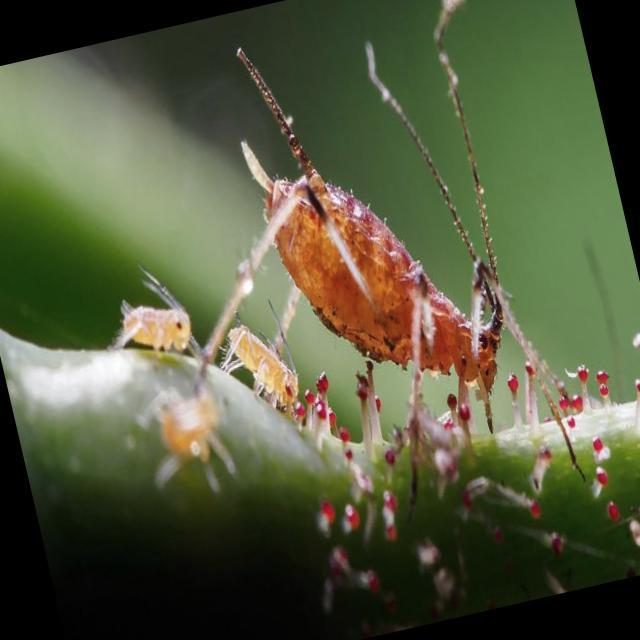aphid: (184, 72, 550, 458), (89, 238, 212, 388), (213, 293, 314, 434)
